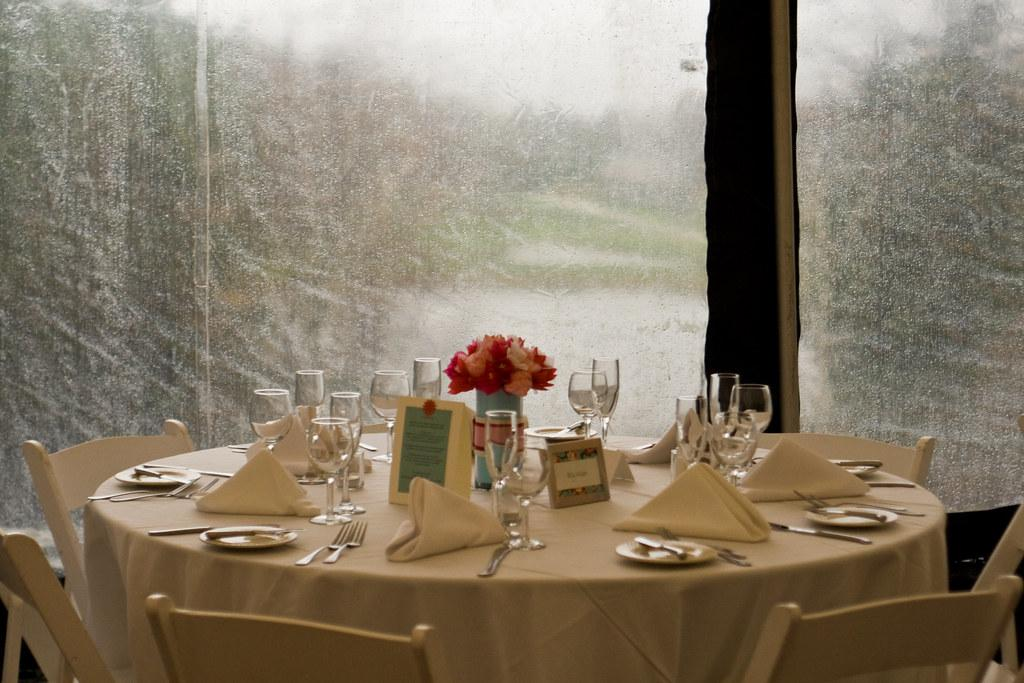table: (83, 427, 950, 681)
